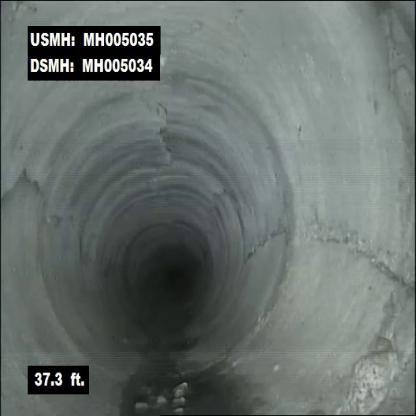circle2: (153, 270, 180, 299)
